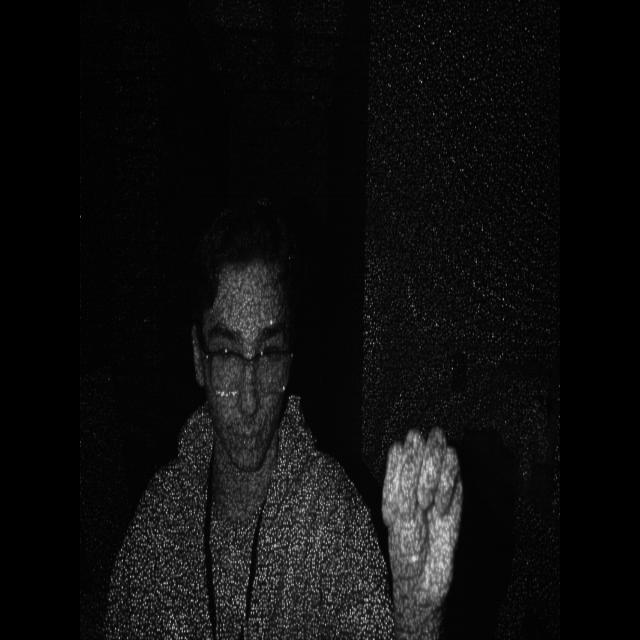E: (374, 424, 474, 620)
